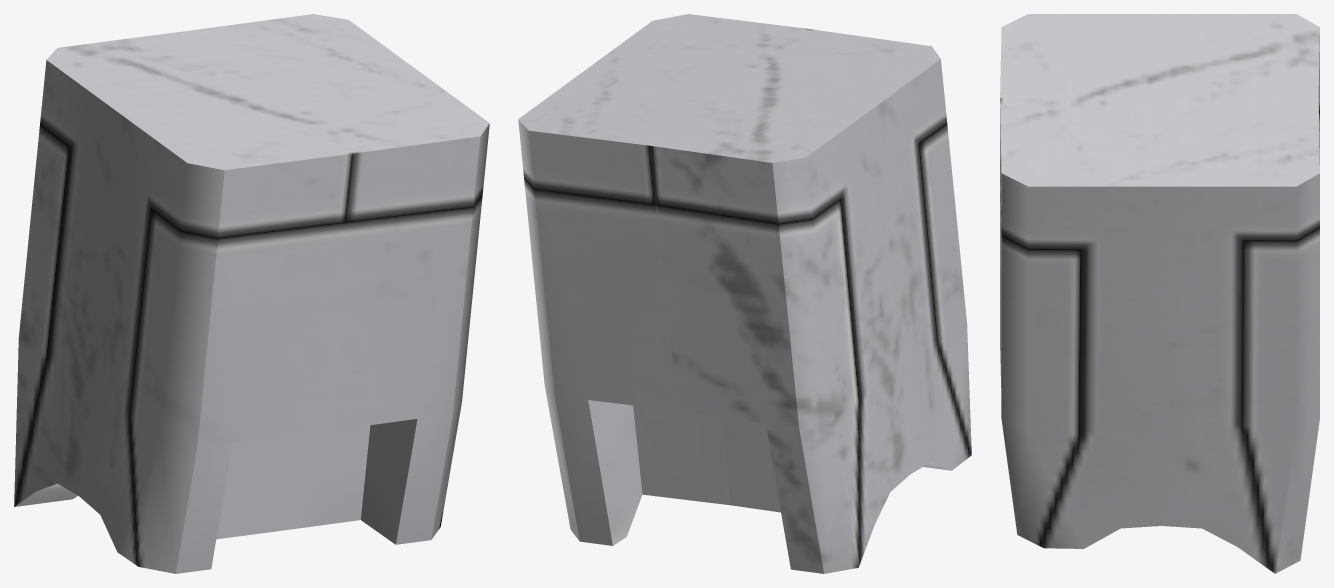
File: uparm1.obj
3 renders of one model, left to right at view 1: azimuth 30°, elevation 25°; view 2: azimuth 150°, elevation 25°; view 3: azimuth 270°, elevation 25°, orthographic. The views are drawn at different scales.
Visible parts, largest first — view 1: polySurface21 group1 uploads_files_730998_Gundam:polySurface666; view 2: polySurface21 group1 uploads_files_730998_Gundam:polySurface666; view 3: polySurface21 group1 uploads_files_730998_Gundam:polySurface666.
Boxes of the visible parts, bbox=[...] form: polySurface21 group1 uploads_files_730998_Gundam:polySurface666: bbox=[14, 14, 489, 573]; polySurface21 group1 uploads_files_730998_Gundam:polySurface666: bbox=[518, 14, 971, 573]; polySurface21 group1 uploads_files_730998_Gundam:polySurface666: bbox=[1000, 14, 1319, 573].
Bounding box in the file's own units: 1.7 × 2.16 × 1.43.
Materials: 1 (1 with a texture image).
